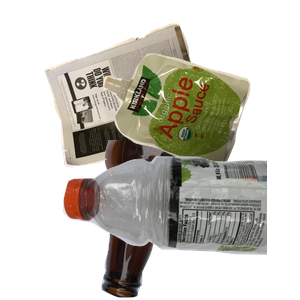glass: (99, 140, 300, 300)
paper: (42, 21, 249, 181)
plastic: (60, 152, 300, 300)
trash: (100, 51, 300, 214)
